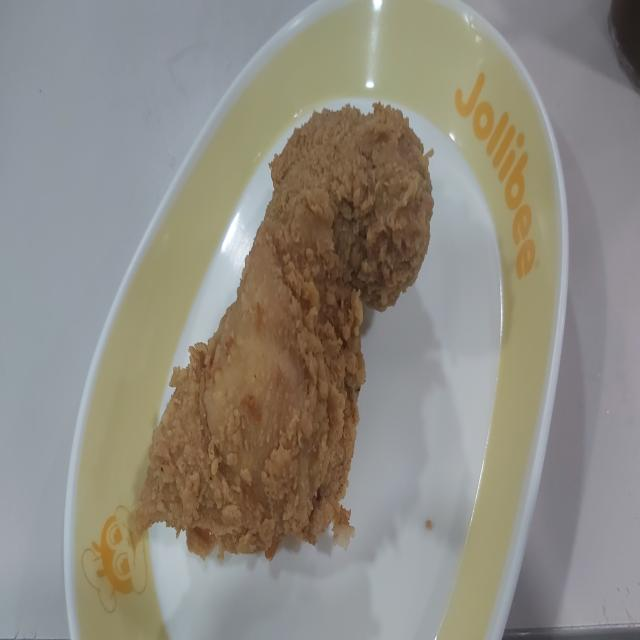Chicken -Fried Chicken-: (130, 95, 442, 565)
